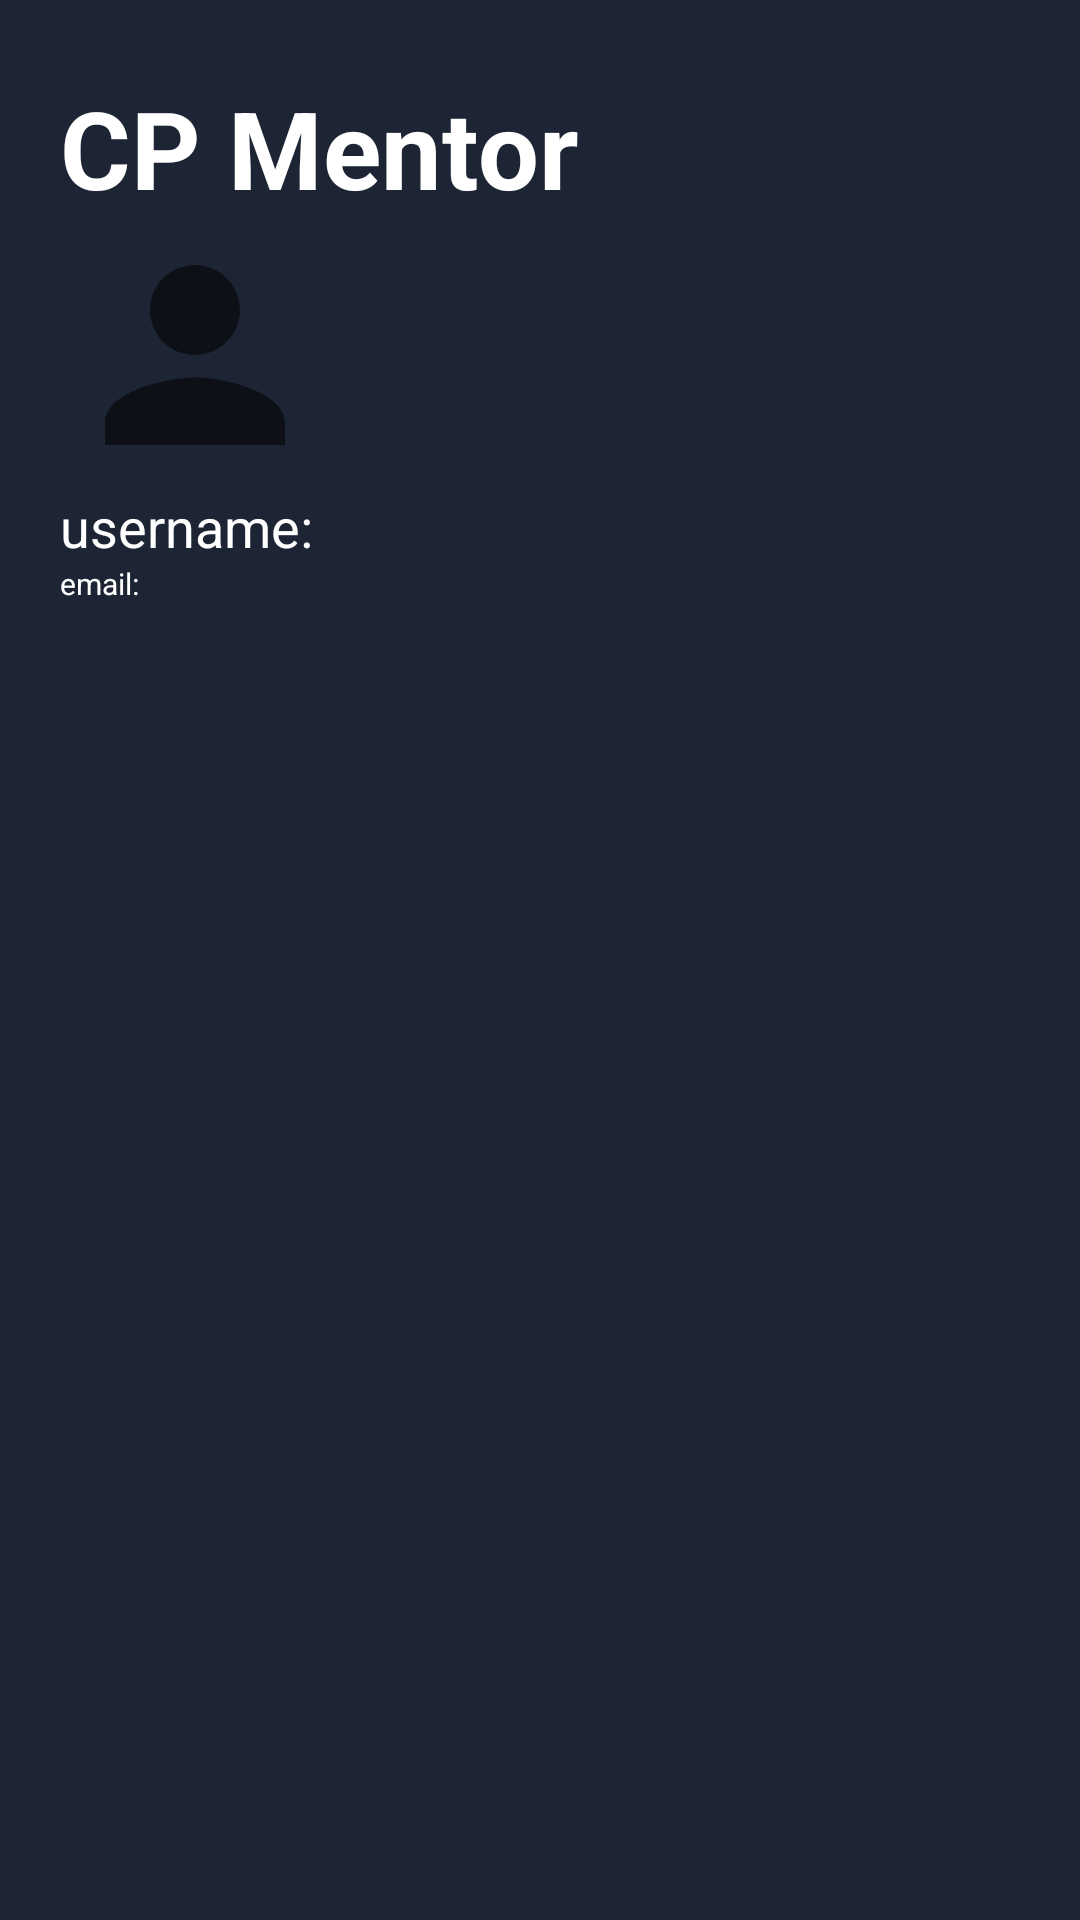

Screen size 1080px x 1920px. Icon name, then its center in pixels as [x,y]:
profile: [195,355]
